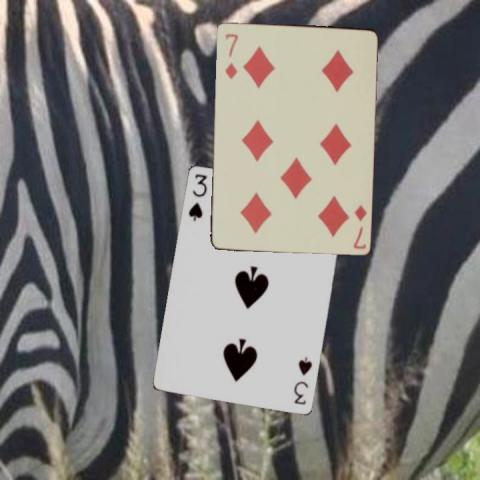3s: (185, 171, 209, 223), (291, 354, 314, 407)
7d: (350, 200, 368, 250), (222, 30, 239, 81)
